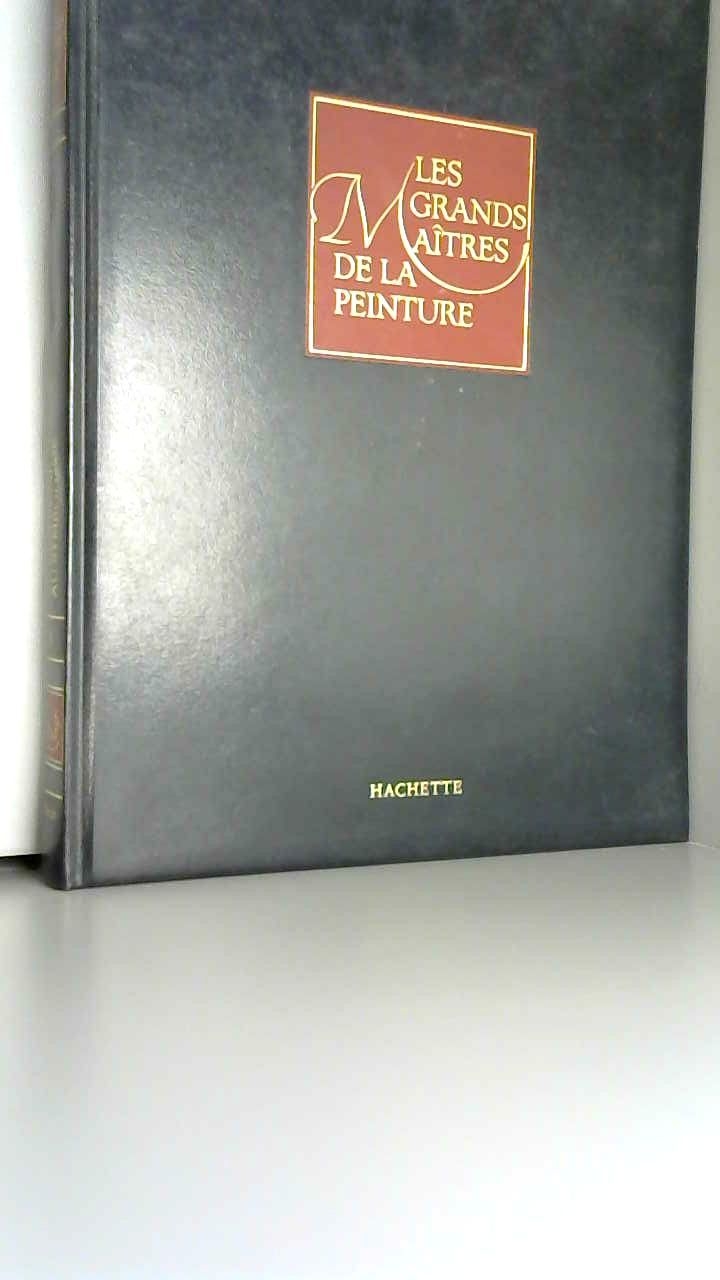book: (6, 0, 720, 914)
